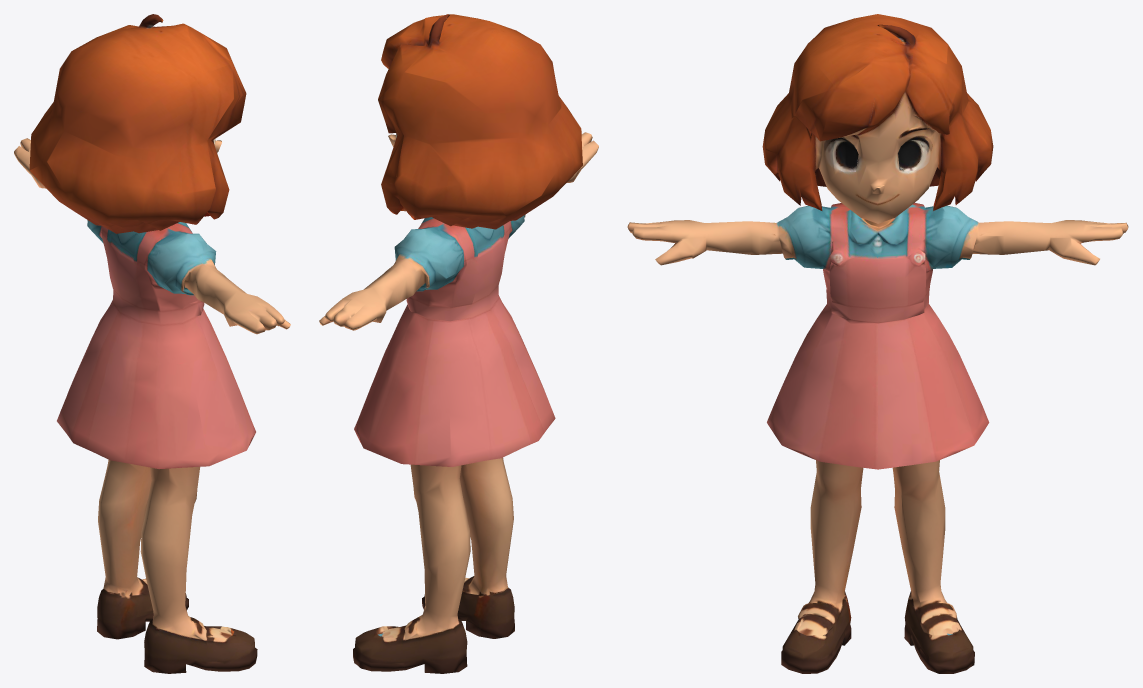
Rendered from modelo+3d+niña.fbx.
3 renders of one model, left to right at view 1: azimuth 30°, elevation 25°; view 2: azimuth 150°, elevation 25°; view 3: azimuth 270°, elevation 25°, orthographic.
Parts seen in each view (by area): view 1: tripo_node_fdbfa122; view 2: tripo_node_fdbfa122; view 3: tripo_node_fdbfa122.
Boxes of the visible parts, x1,y1,x2,y2 form: tripo_node_fdbfa122: (14,14,290,673); tripo_node_fdbfa122: (319,14,598,673); tripo_node_fdbfa122: (627,14,1128,673).
Size of the model in its own units: 0.3285 by 0.9999 by 0.7301.
Materials: 1 (1 with a texture image).
